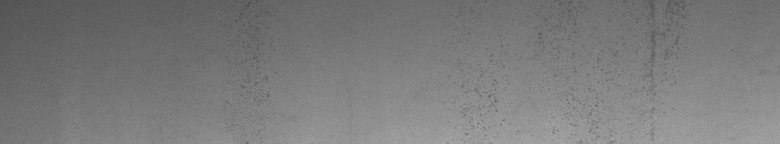ib: (460, 4, 679, 136)
